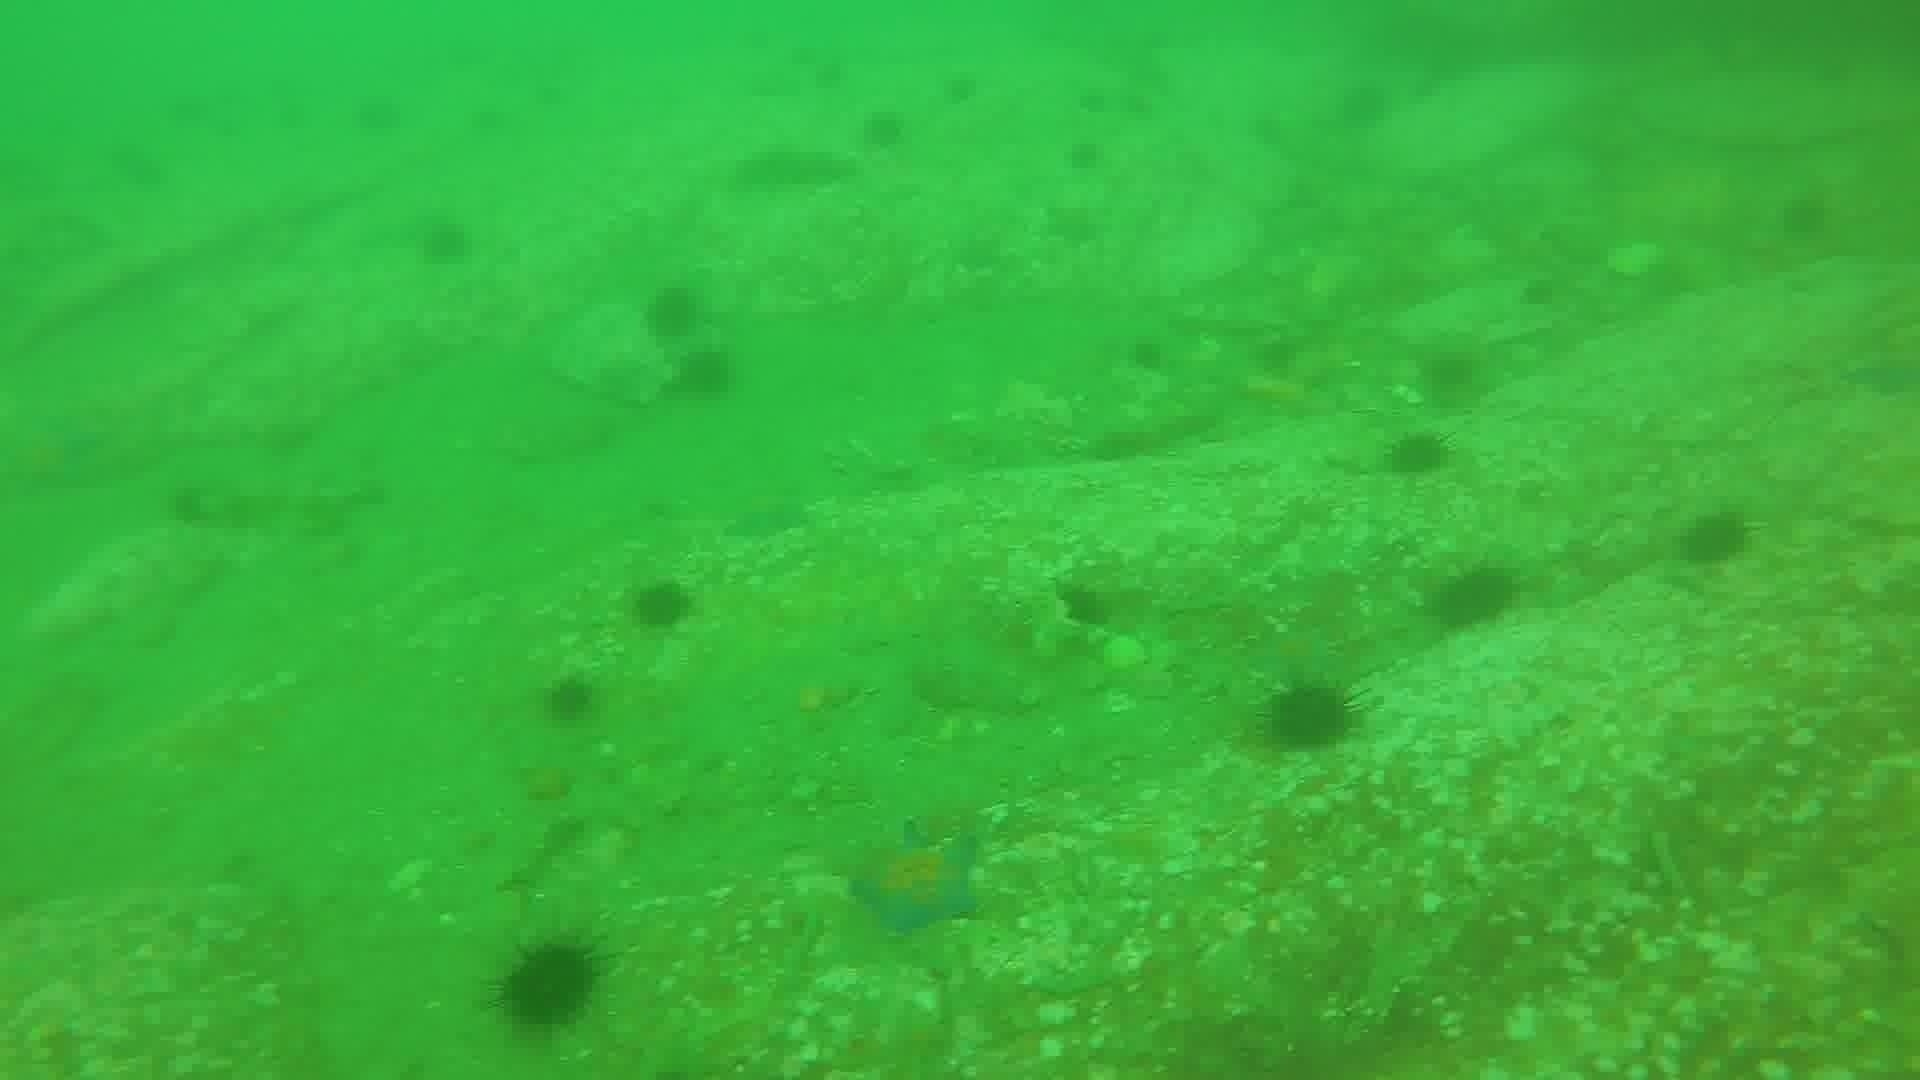echinus: (491, 935, 607, 1036), (1259, 678, 1362, 757), (1425, 559, 1523, 637), (1412, 343, 1491, 415), (1502, 262, 1582, 334), (1673, 505, 1756, 574), (625, 574, 698, 636), (640, 280, 707, 344), (1381, 426, 1455, 484), (671, 343, 740, 404), (1051, 575, 1120, 634), (537, 670, 603, 729), (1331, 76, 1396, 135), (410, 204, 475, 262), (1774, 187, 1837, 245), (349, 88, 407, 138), (162, 480, 215, 530), (1241, 102, 1294, 152), (1113, 80, 1166, 131), (857, 105, 910, 154), (1060, 69, 1113, 117), (804, 55, 857, 104), (1124, 332, 1172, 377), (1062, 135, 1106, 175), (939, 67, 982, 108)
starfish: (848, 825, 986, 940), (1, 401, 108, 498), (1242, 620, 1350, 691), (717, 485, 815, 545), (1240, 369, 1332, 422), (1039, 198, 1108, 252), (514, 757, 579, 806)
